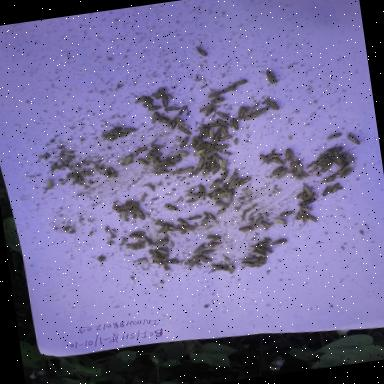pbw: (338, 163, 361, 179), (262, 95, 282, 113), (250, 104, 272, 118), (175, 122, 194, 138), (154, 158, 179, 170), (270, 214, 291, 228), (270, 233, 289, 248), (202, 88, 225, 100), (151, 235, 172, 248), (214, 107, 232, 122), (219, 82, 238, 96), (197, 145, 216, 159), (300, 183, 316, 199), (292, 162, 307, 179), (263, 68, 278, 85), (200, 104, 218, 118), (156, 95, 174, 109), (188, 164, 206, 178), (148, 254, 170, 265), (142, 148, 164, 159), (240, 254, 264, 264), (152, 85, 167, 101), (283, 147, 298, 163), (203, 231, 223, 243), (216, 132, 236, 144), (131, 93, 151, 105), (298, 196, 318, 208), (240, 258, 260, 270), (345, 132, 362, 146), (249, 216, 266, 230), (299, 191, 320, 202), (206, 177, 225, 189), (172, 148, 191, 160), (148, 110, 162, 126), (216, 156, 230, 172), (192, 44, 208, 58), (305, 213, 322, 226), (176, 164, 196, 175), (162, 154, 184, 164), (115, 124, 137, 134), (278, 208, 298, 219), (163, 103, 181, 115), (256, 150, 270, 165), (176, 102, 190, 117), (323, 170, 338, 184), (341, 150, 356, 164), (236, 225, 255, 236), (205, 238, 224, 249), (43, 176, 56, 192), (200, 164, 213, 180), (226, 177, 243, 189), (268, 166, 285, 178), (148, 140, 165, 152), (184, 190, 202, 201), (176, 136, 190, 150), (202, 208, 216, 222), (217, 124, 231, 138), (156, 222, 170, 236), (191, 240, 205, 254), (226, 170, 240, 184), (198, 214, 212, 228), (164, 201, 179, 214), (319, 160, 334, 173), (176, 216, 192, 228), (236, 104, 248, 120), (198, 253, 215, 264), (188, 136, 201, 150), (328, 181, 342, 194), (277, 166, 290, 180), (325, 131, 343, 141), (186, 213, 204, 223), (210, 95, 226, 106), (145, 104, 164, 113), (237, 176, 254, 186), (229, 118, 241, 132), (294, 208, 306, 222), (192, 146, 206, 158), (212, 128, 224, 142), (196, 125, 207, 140), (243, 112, 261, 121), (128, 231, 144, 241), (231, 78, 247, 88), (214, 142, 230, 152), (132, 144, 148, 154), (214, 190, 227, 202), (135, 208, 147, 221), (120, 154, 133, 166), (334, 166, 347, 178), (210, 164, 222, 177), (107, 165, 118, 179), (271, 155, 285, 166), (164, 257, 180, 266), (265, 152, 283, 160), (319, 185, 331, 197), (136, 157, 150, 167), (120, 208, 130, 222), (216, 206, 230, 216), (255, 238, 270, 247), (333, 150, 342, 165), (176, 115, 188, 126), (230, 182, 242, 193), (142, 98, 154, 109), (253, 248, 266, 258), (182, 224, 195, 234), (153, 168, 169, 176), (197, 104, 211, 113), (210, 262, 222, 272), (158, 246, 170, 256), (216, 118, 228, 128), (224, 190, 234, 202), (160, 92, 168, 107), (212, 152, 222, 164), (197, 181, 205, 196), (216, 200, 229, 209), (170, 117, 178, 131), (168, 224, 182, 232), (204, 140, 218, 148), (206, 122, 222, 129), (226, 262, 235, 274), (260, 219, 272, 228), (294, 192, 308, 199), (158, 116, 170, 124), (207, 161, 215, 173), (220, 169, 228, 181), (262, 246, 274, 254), (208, 128, 216, 140), (200, 248, 215, 254), (197, 158, 205, 168), (196, 140, 204, 148)
